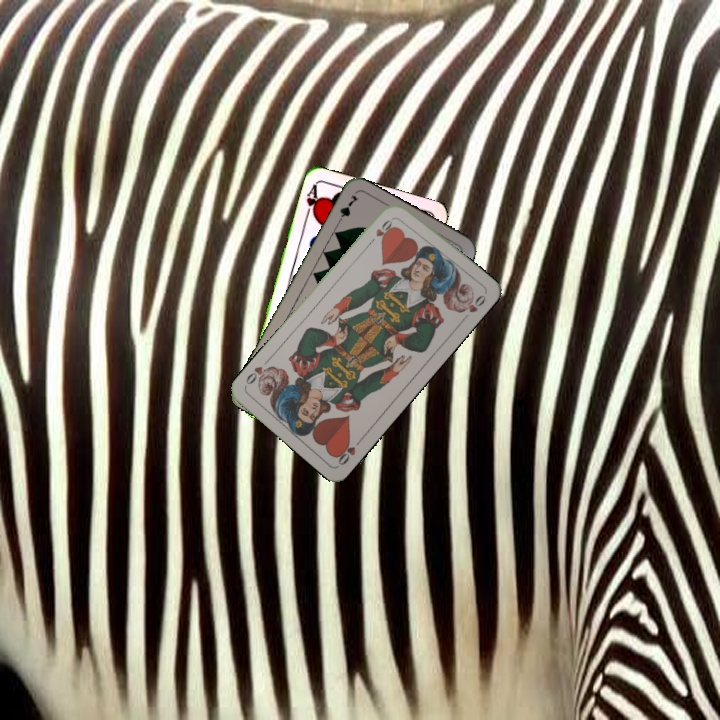G7: (332, 190, 361, 228)
HA: (302, 180, 323, 220)
HO: (332, 434, 365, 468), (365, 213, 397, 246)
